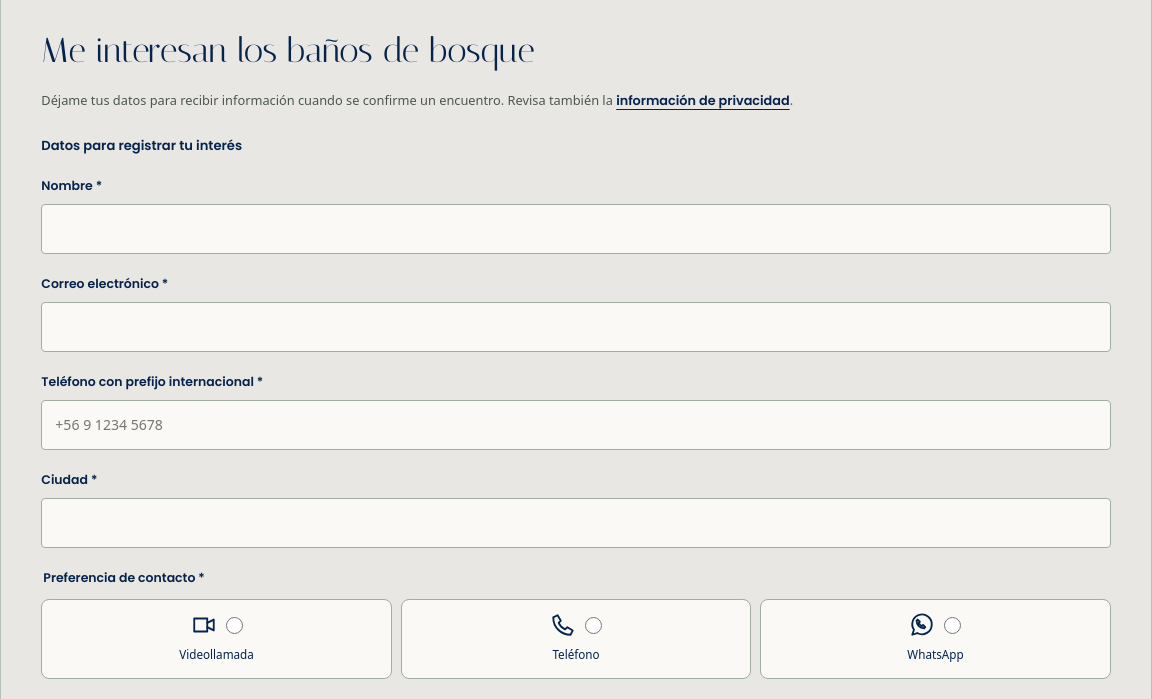
Test case: InterestForm › muestra error honesto y conserva los campos para reintentar
In the field labelled "Nombre *": (576, 229) [41,204,1111,254], type "Ana"
In the field labelled "Correo electrónico *": (576, 327) [41,302,1111,352], type "ana@example.com"
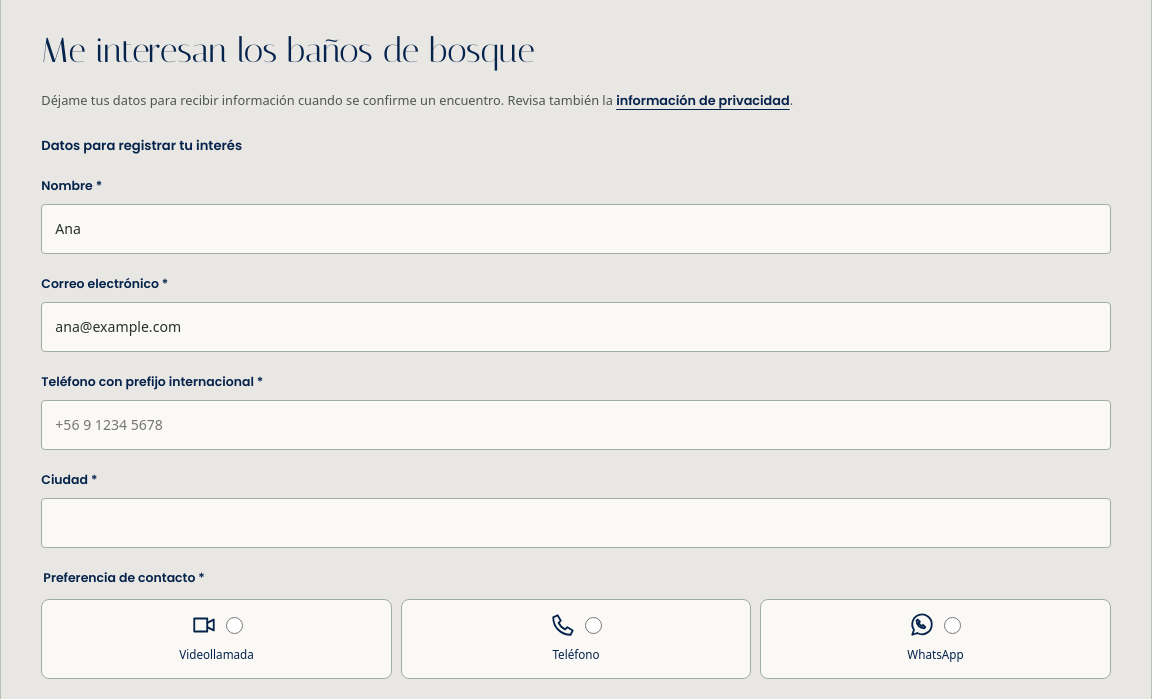
In the field labelled "Teléfono con prefijo internacional *": (576, 425) [41,400,1111,450], type "+56912345678"
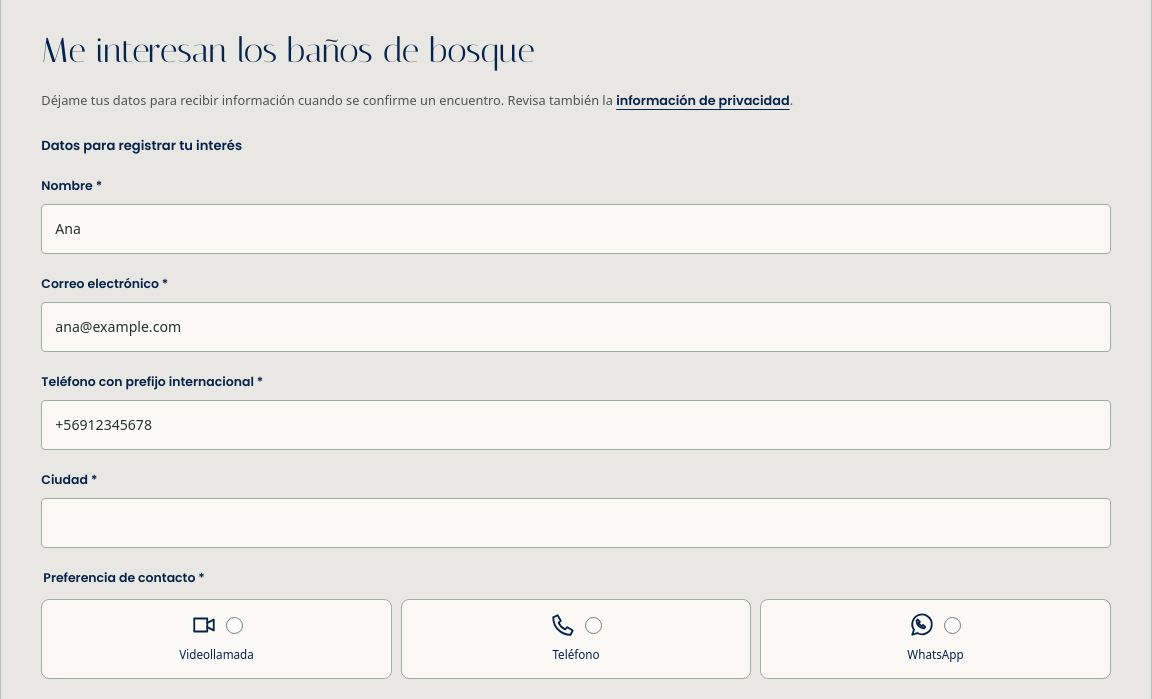
Click the radio button labelled "WhatsApp": (953, 625) [944,617,962,634]
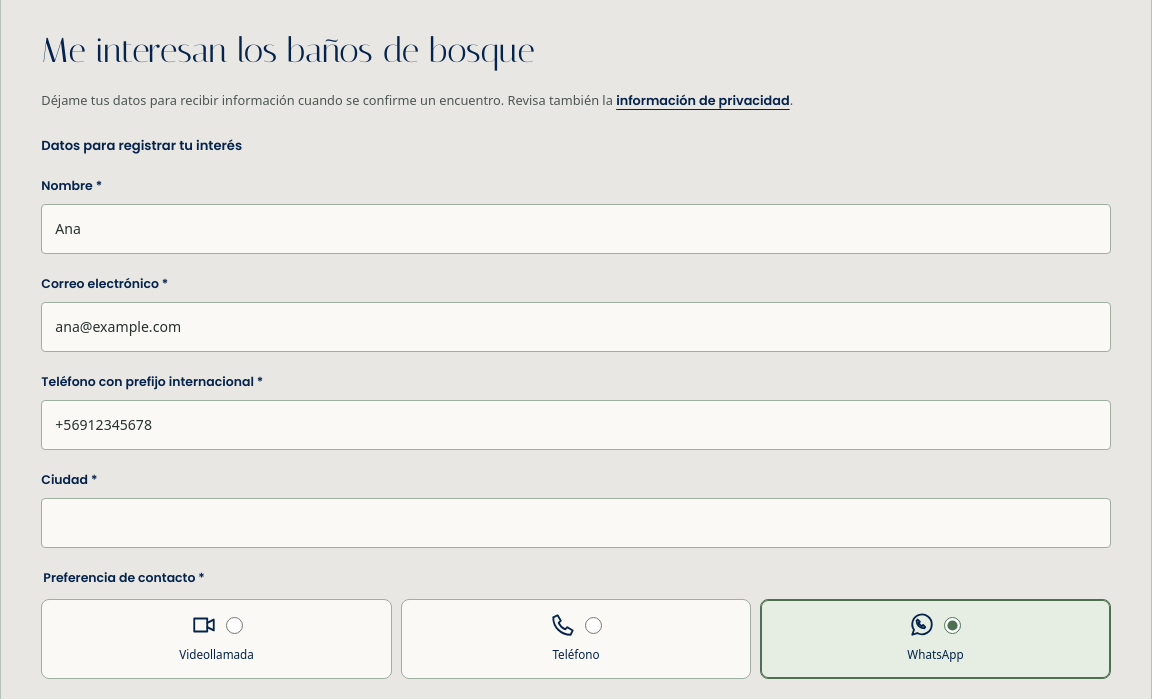
In the field labelled "Ciudad *": (576, 523) [41,498,1111,548], type "Chile"
(page scrolled)
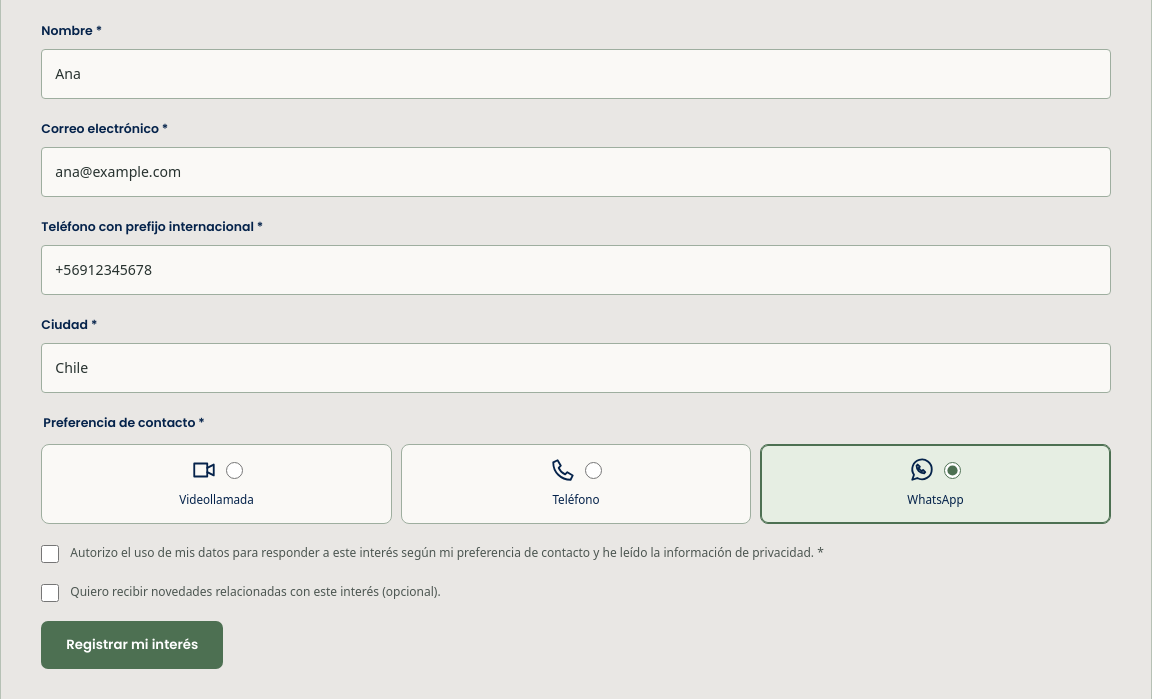
Click the checkbox labelled "Autorizo el uso": (50, 554) [41,545,59,563]
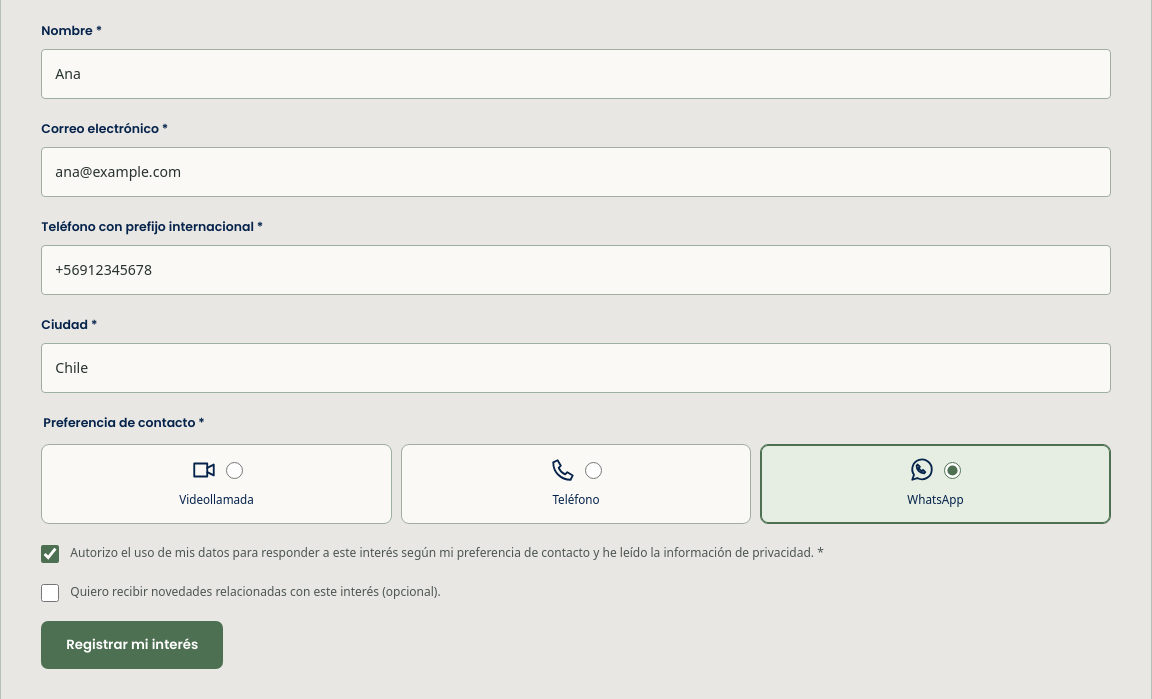
Click the button "Registrar mi interés": (132, 645) [41,621,223,669]
Wait 800 ms
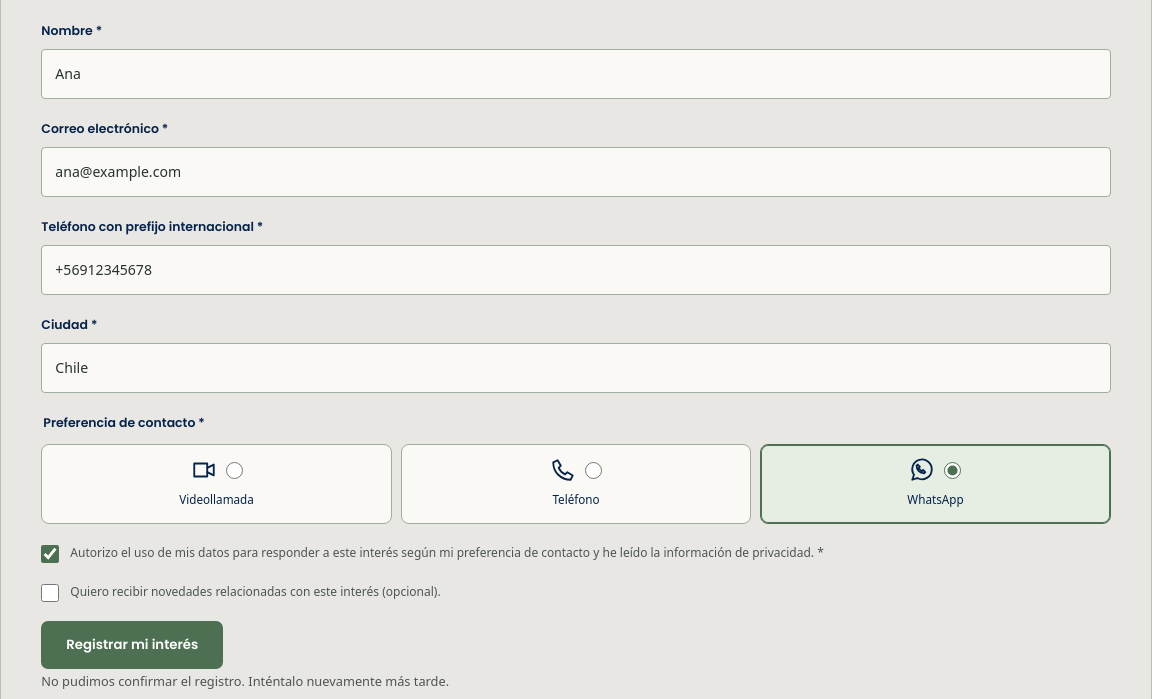
Expected: the message shows "No pudimos confirmar el registro", [41,672,449,690]
